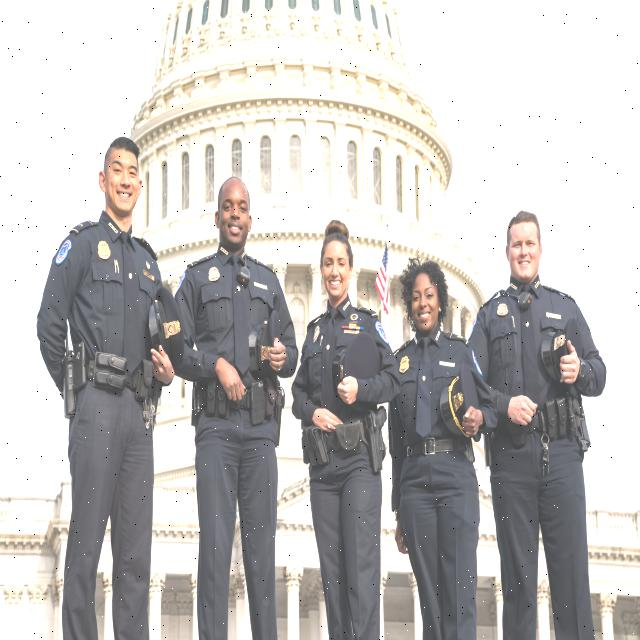police: (31, 124, 165, 640), (167, 162, 292, 640), (472, 203, 601, 640), (289, 212, 395, 640), (390, 243, 490, 640)
